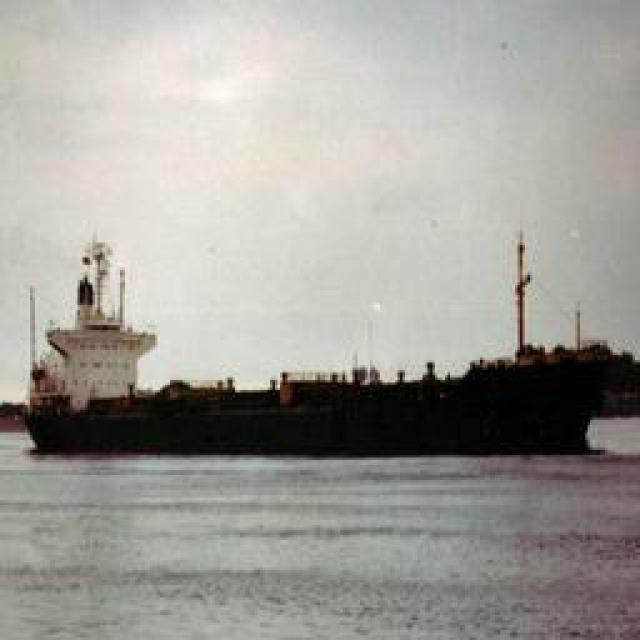Ship: (25, 237, 175, 457)
